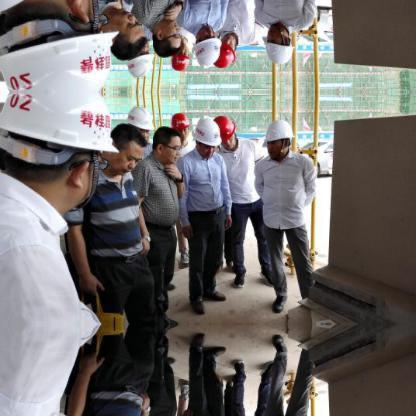helmet: (1, 83, 120, 159), (261, 113, 292, 148), (193, 114, 222, 151), (127, 101, 153, 132), (214, 112, 237, 140), (168, 108, 191, 132)
